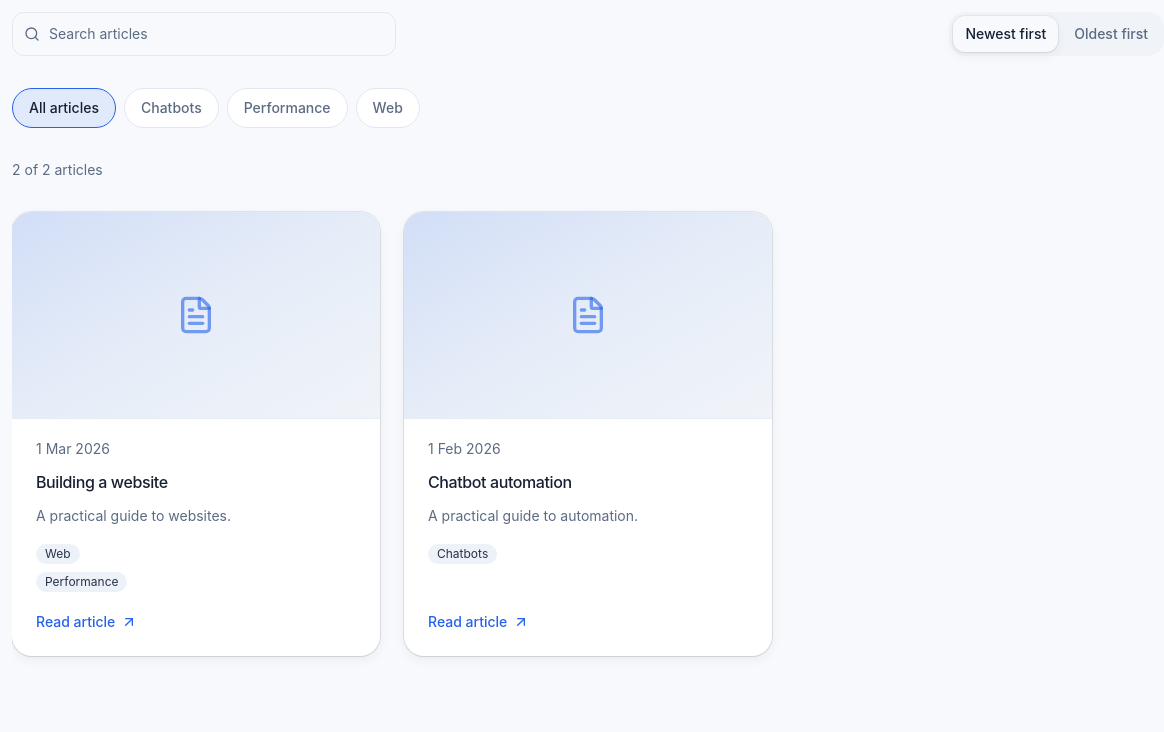
BlogExplorer › includes tags in search and can reset all filters
Type "performance" into the search field at [204, 34], box [12, 12, 396, 56]
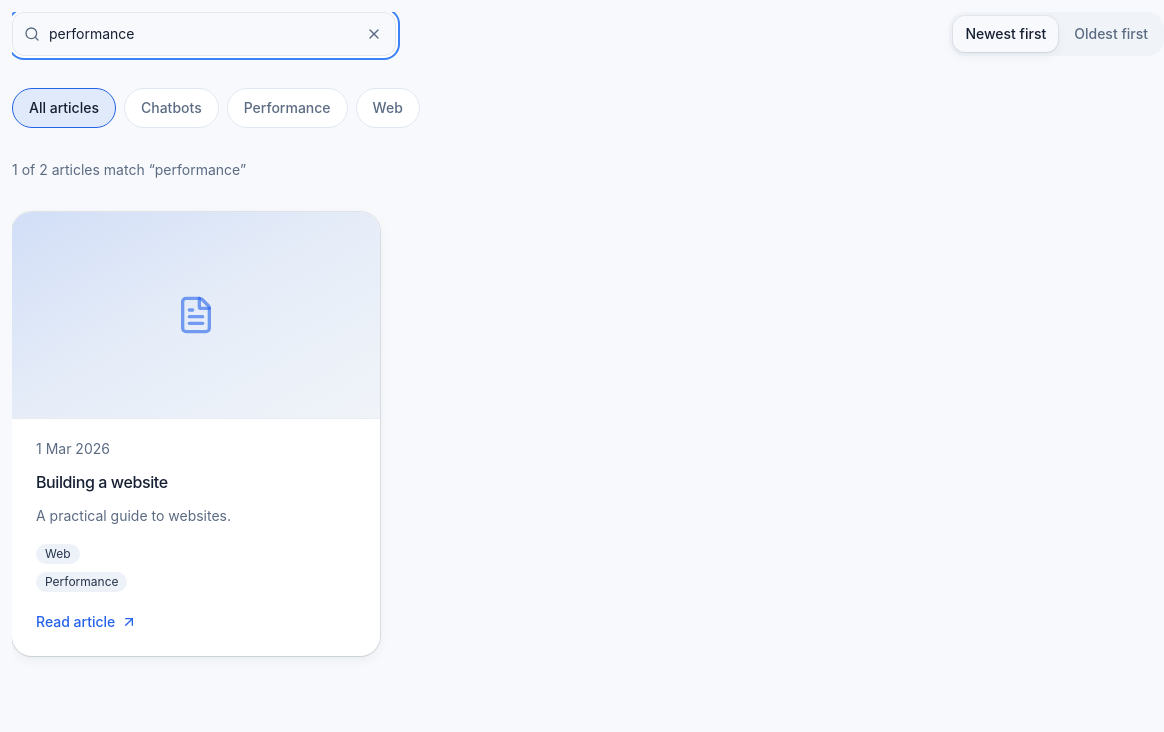
Check: the link "Building a website" is shown, box [36, 472, 168, 492]
Click the button "Chatbots" at [171, 108], box [124, 88, 219, 128]
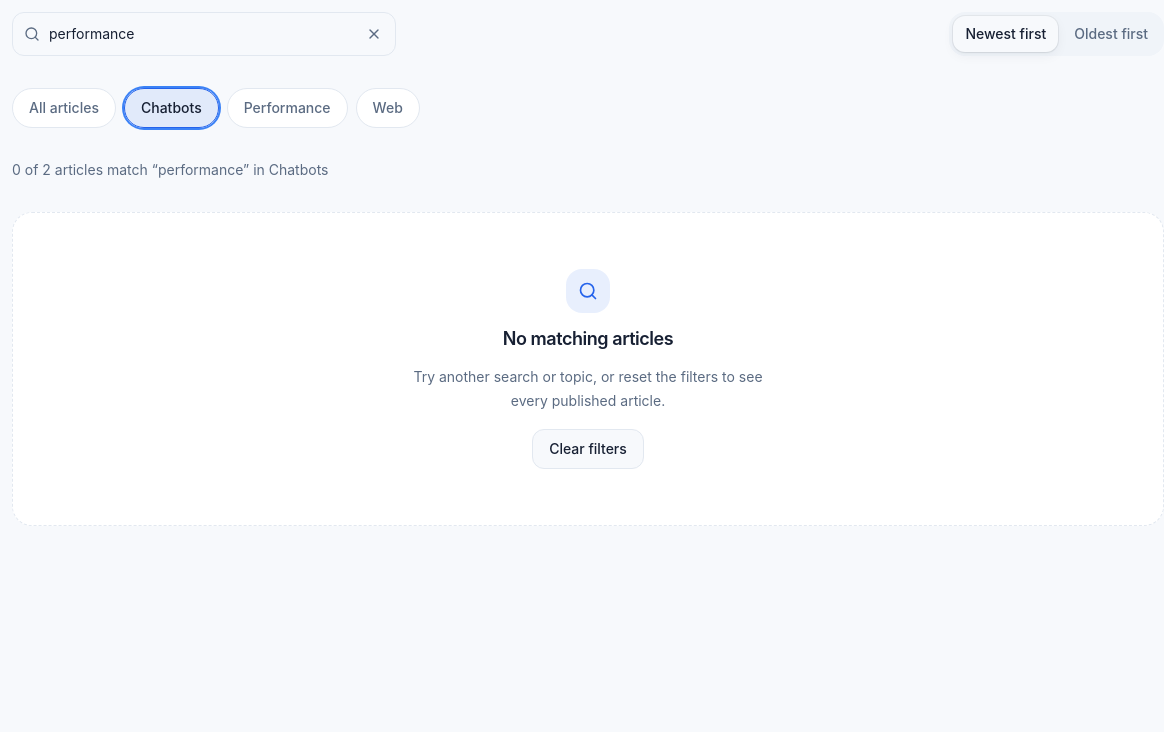
Check: the button "Clear filters" is shown
Click the button "Clear filters" at [588, 449], box [532, 429, 644, 469]
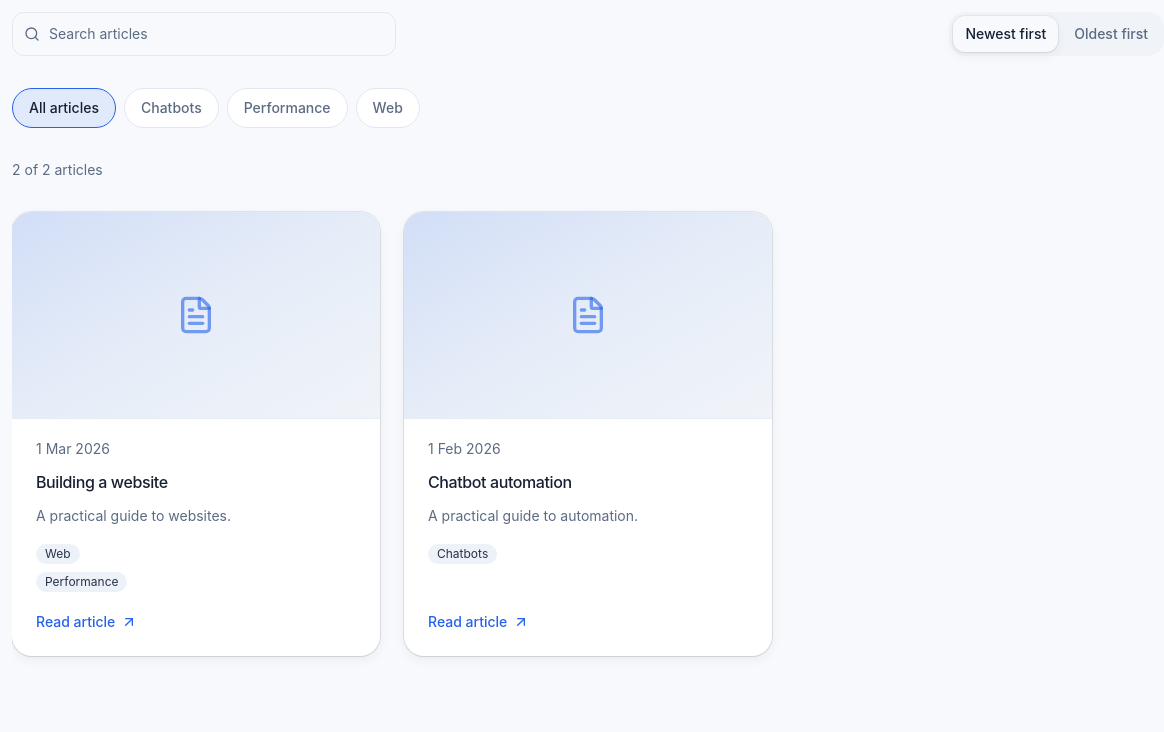
Check: the link "Chatbot automation" is shown, box [428, 472, 572, 492]
